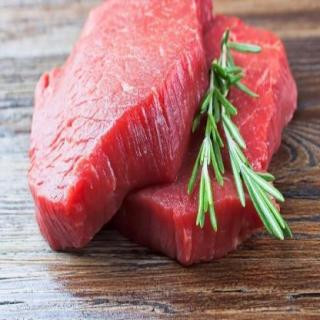Daging Sapi: (30, 3, 207, 247)
